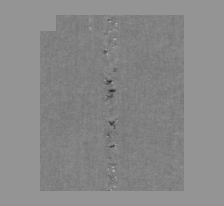oxl: (35, 10, 189, 196)
